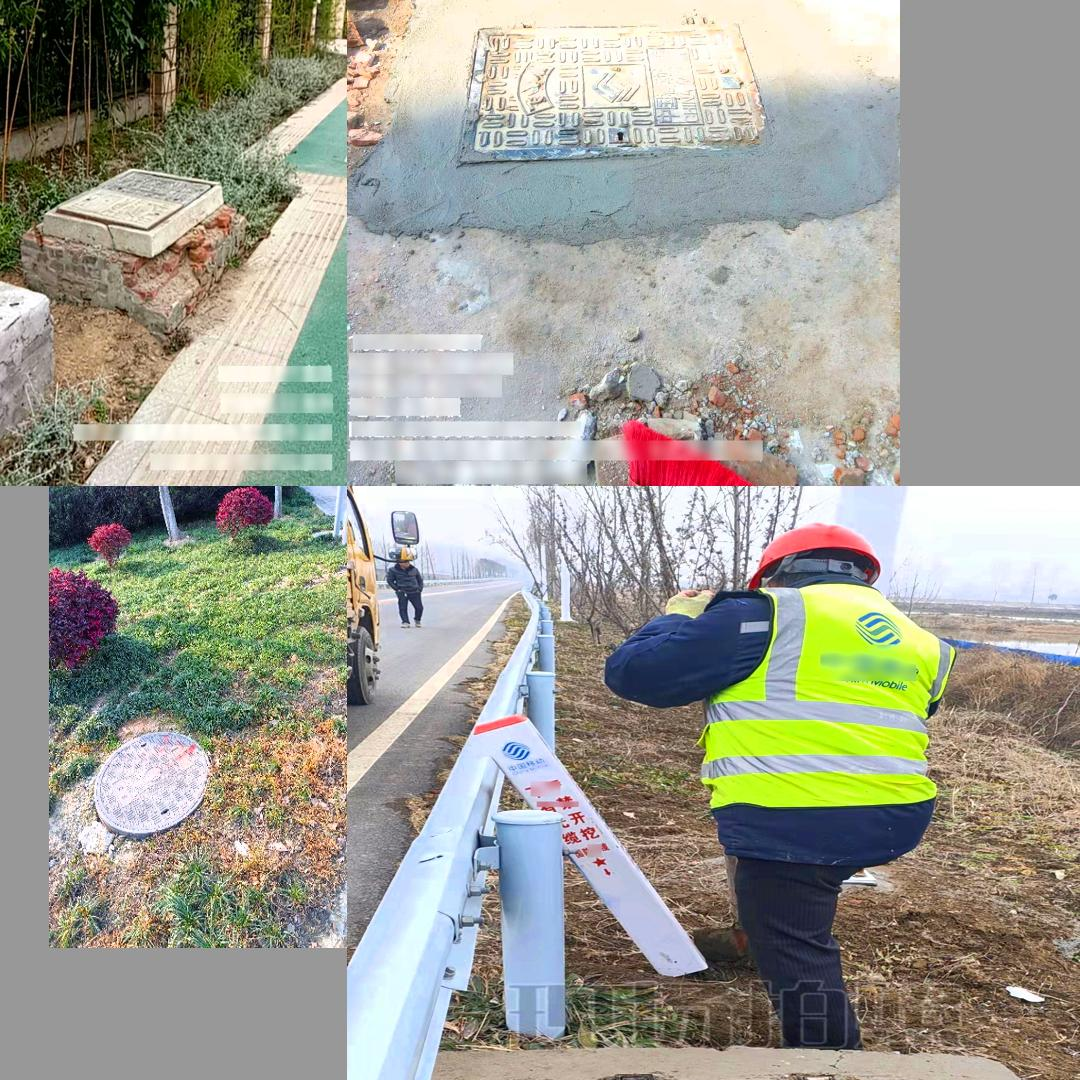good: (458, 17, 773, 163), (90, 727, 209, 837), (45, 167, 219, 234), (512, 1070, 1080, 1080)
